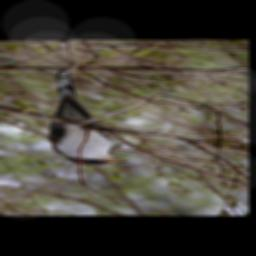Cuckoo: (46, 71, 130, 167)
